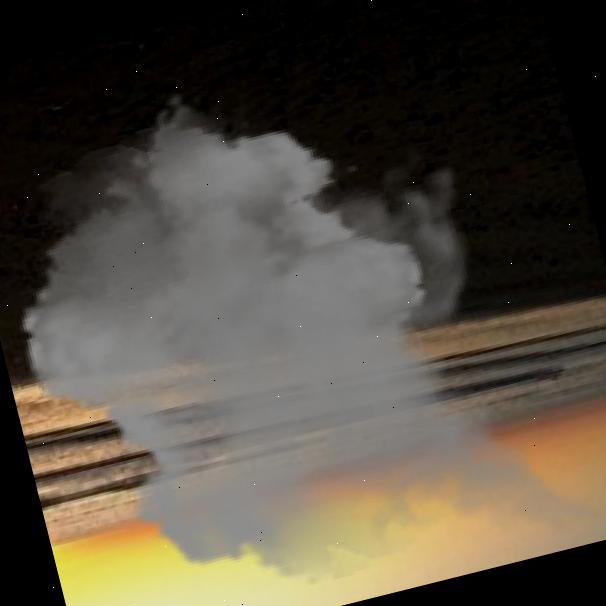smoke: (0, 9, 606, 606)
